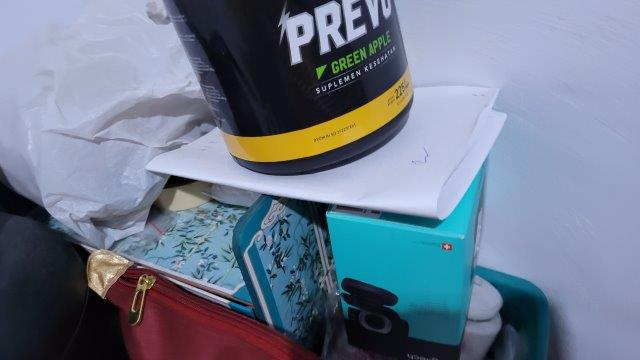kertas: (145, 86, 507, 221)
